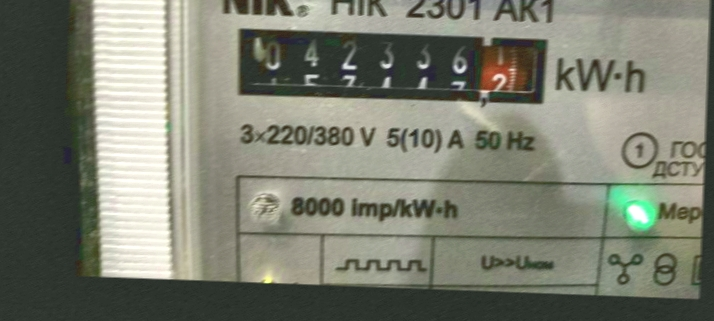0: (262, 40, 283, 74)
1: (493, 43, 506, 69)
2: (338, 39, 361, 74), (489, 74, 506, 95)
3: (375, 40, 395, 72), (414, 41, 433, 74)
4: (302, 38, 321, 71)
6: (449, 44, 470, 79)
screen: (223, 16, 561, 119)
